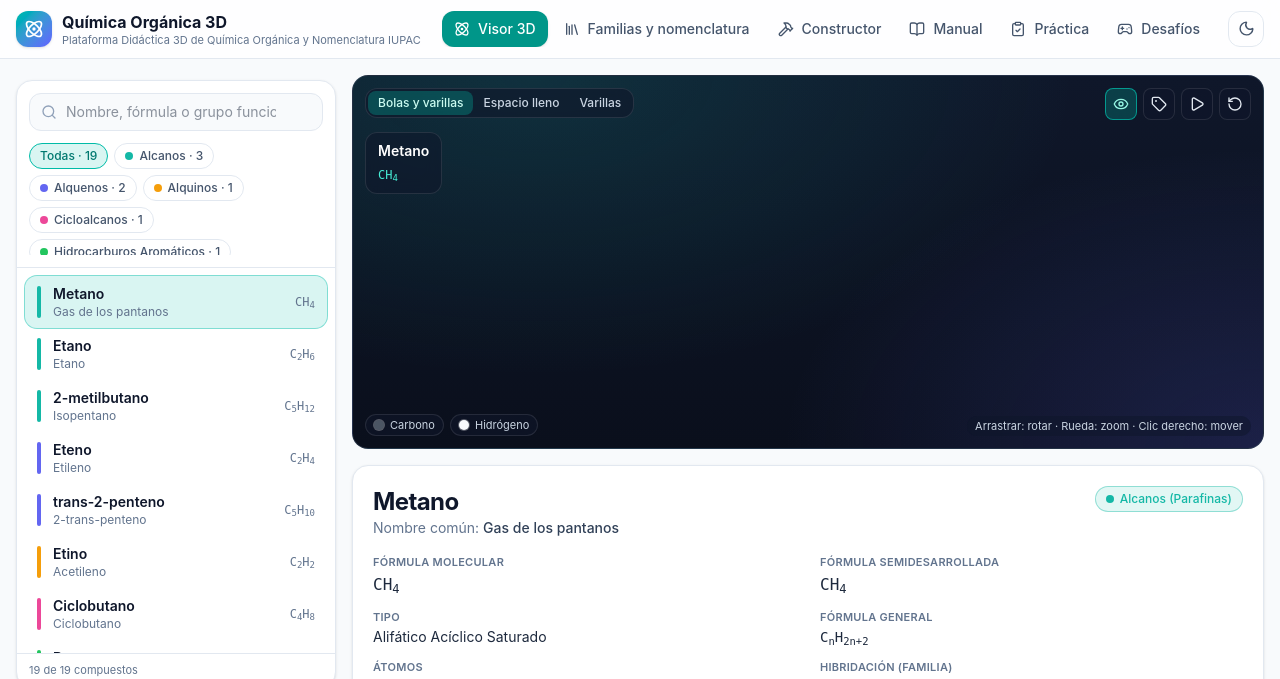
Manual de estudio › un ejemplo del manual se arma en el Constructor con el mismo nombre
What coordinates should you click on to do the following:
click the button "Manual"
I would click on:
 (946, 29)
Its box is [897, 11, 994, 47].
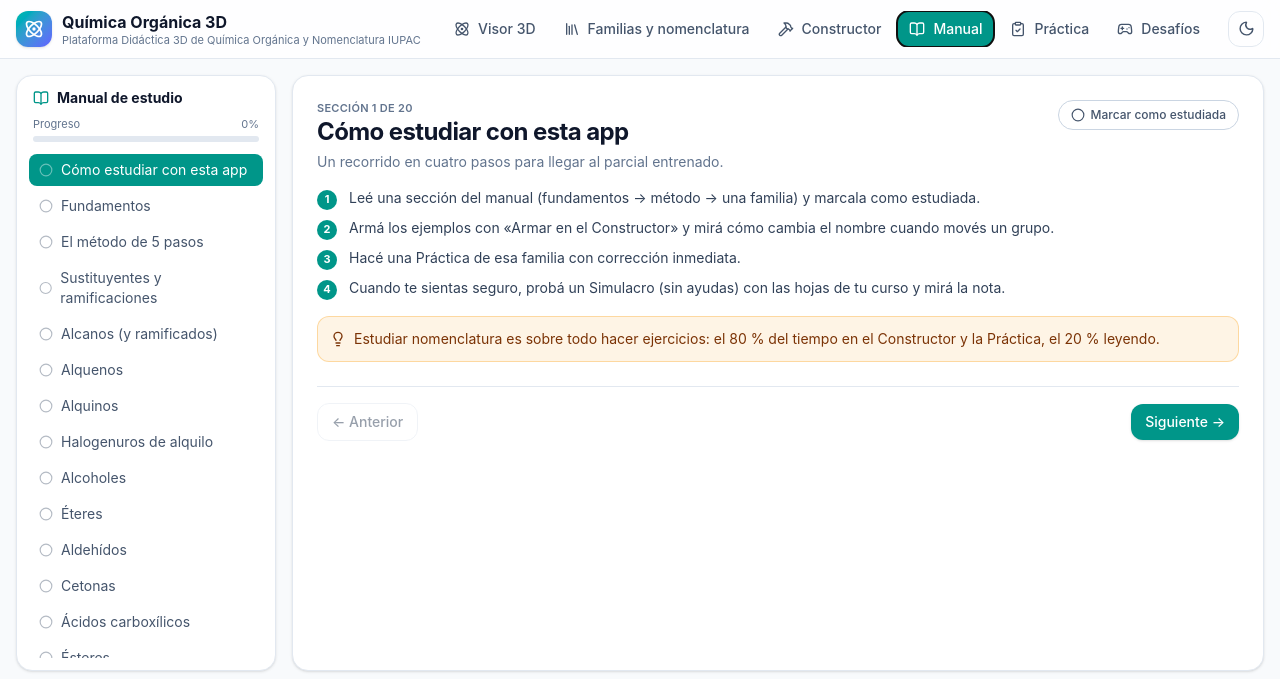
What coordinates should you click on to do the following:
click the button "Cetonas"
I would click on:
 (146, 586)
Its box is [29, 570, 263, 602].
(page scrolled)
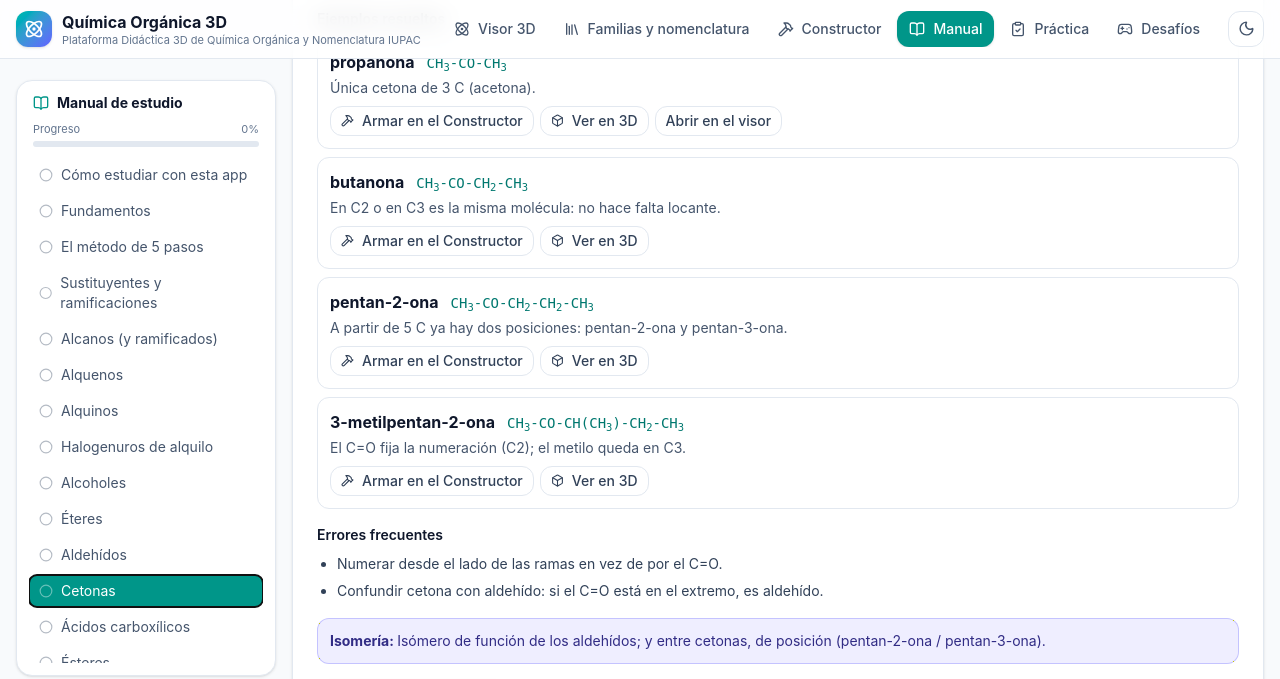
# 3er ejemplo: pentan-2-ona
What coordinates should you click on to do the following:
click the 3rd button "Armar en el Constructor"
I would click on:
 (432, 361)
Its box is [330, 346, 534, 376].
(page scrolled)
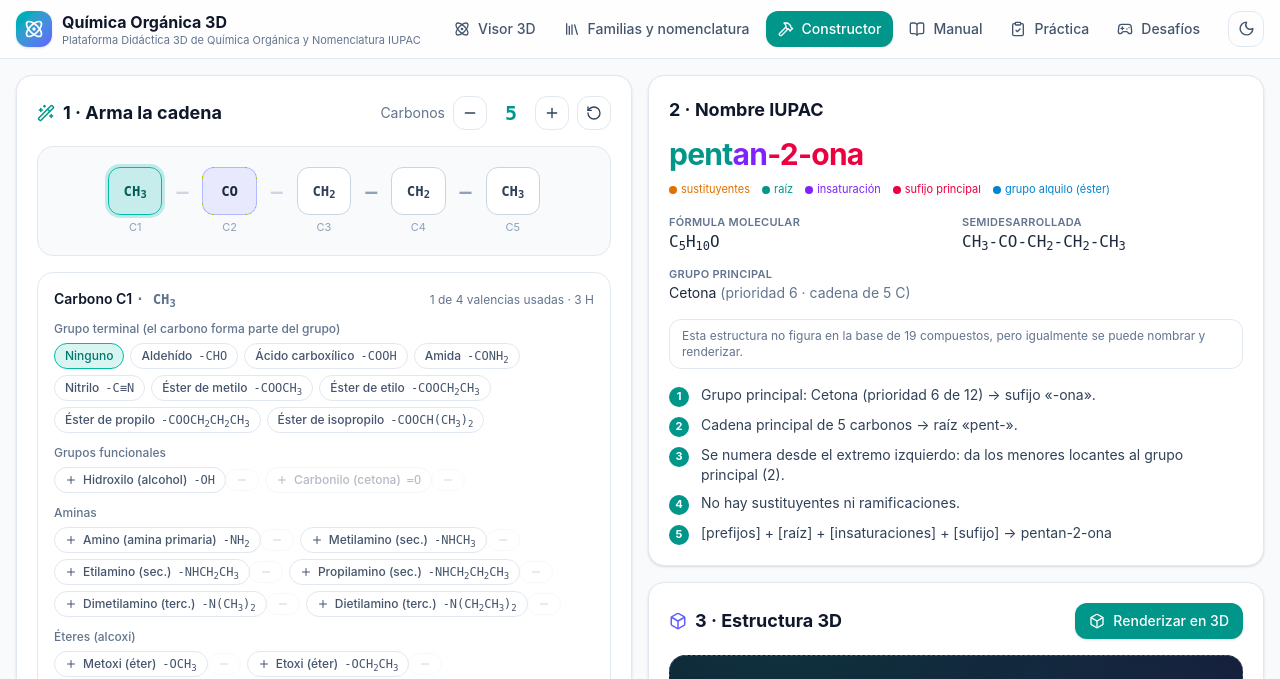
Result: the element showing "pentan-2-ona" is shown at [669, 136, 864, 172]
Result: the button "Renderizar en 3D" is shown at [1075, 603, 1243, 639]
